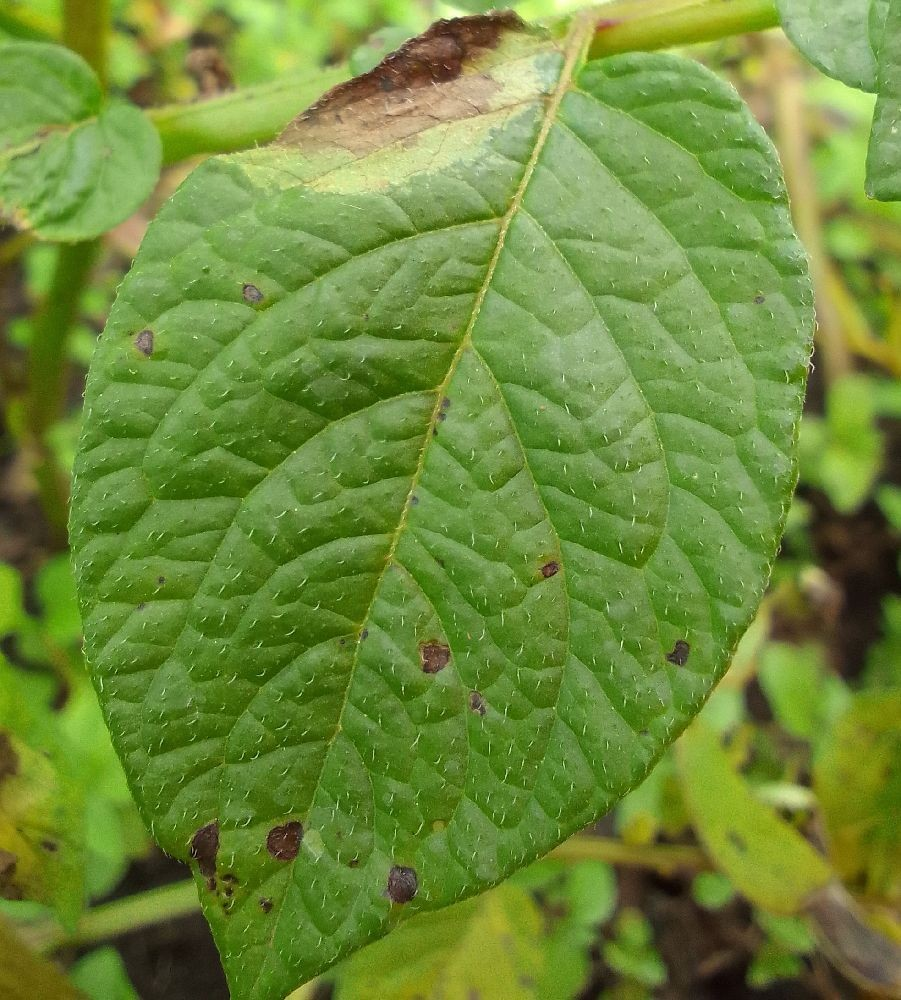late_blight: (559, 783, 900, 999), (0, 161, 137, 664), (729, 378, 901, 727), (0, 879, 257, 1000)
